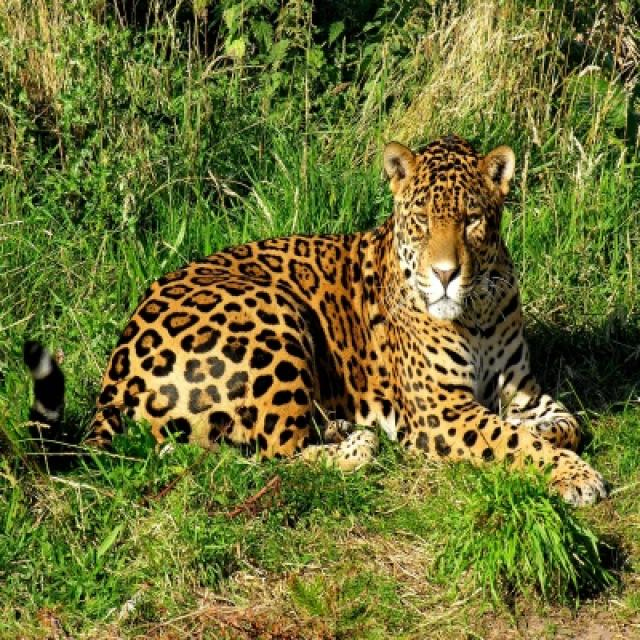Jaguar: (80, 136, 611, 509)
